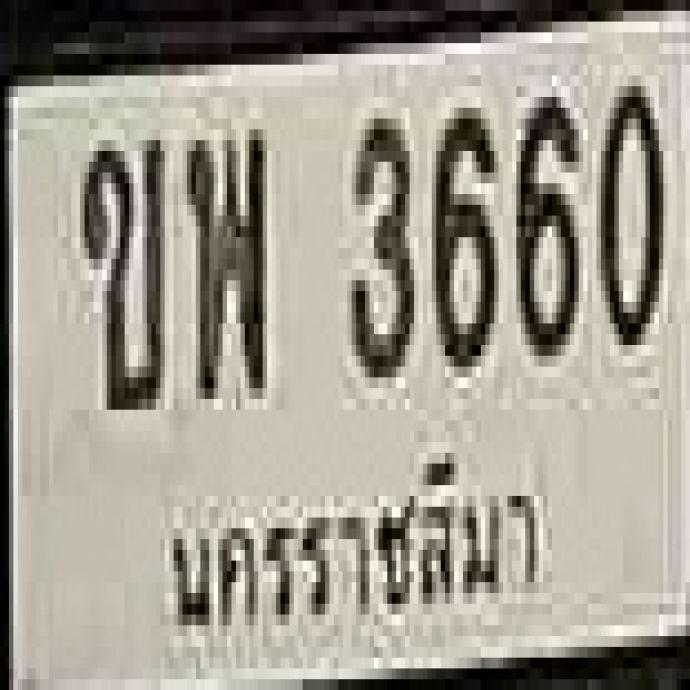0: (596, 76, 658, 335)
3: (346, 108, 410, 366)
6: (430, 98, 492, 359), (514, 86, 574, 346)
A02: (78, 129, 160, 402)
A30: (184, 121, 261, 389)
NMA: (163, 438, 554, 645)
